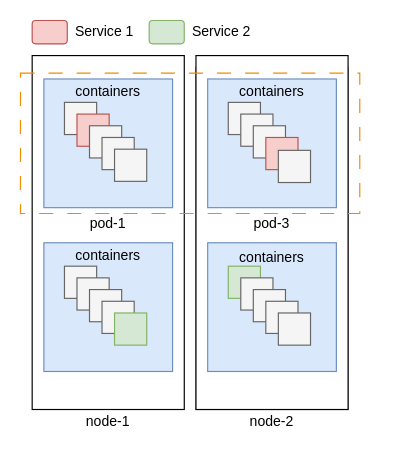
This 397x449 diagram has some shape labels left out. Here are the shapes that lost their labels. From the top down, the box of each, then its label:
(19, 72, 360, 214): namespace-1
(43, 242, 173, 371): pod-2
(207, 242, 336, 371): pod-4
